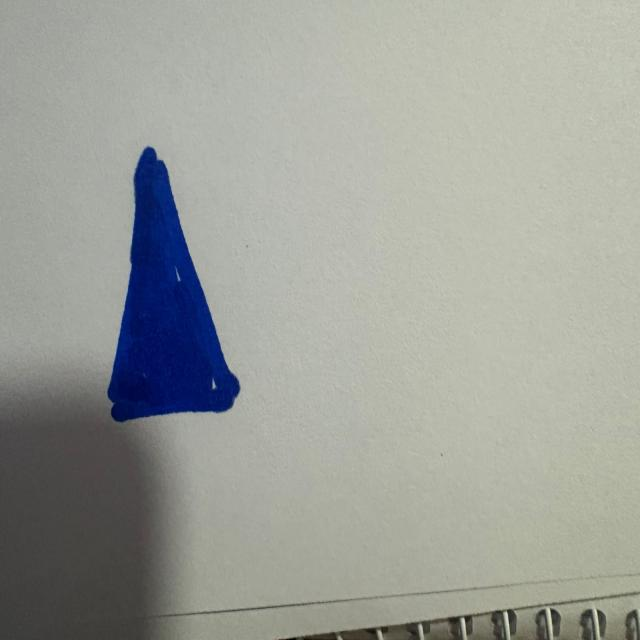Triangle: (108, 147, 239, 421)
